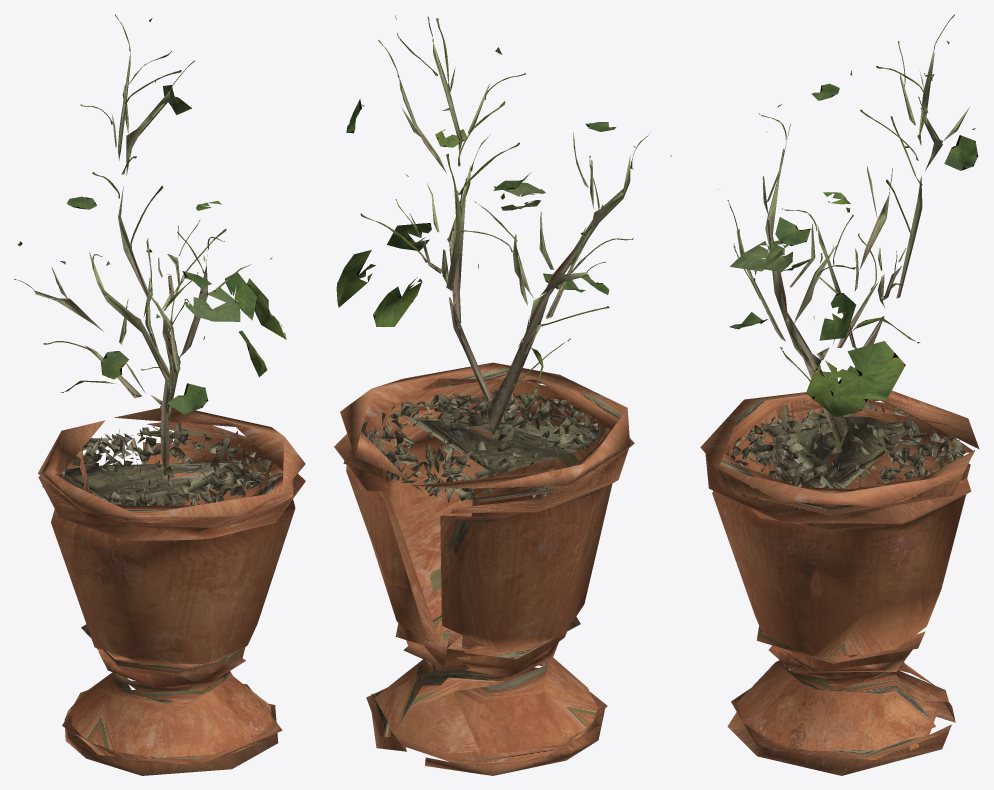
Rendered from plant.gltf.
The picture shows the model from 3 angles, left to right: view 1: azimuth 30°, elevation 25°; view 2: azimuth 150°, elevation 25°; view 3: azimuth 270°, elevation 25°; orthographic projection. The views are drawn at different scales.
Visible parts, largest first — view 1: potted_plant_01_pot, potted_plant_01_pebbles, potted_plant_01_leaves, potted_plant_01_stem; view 2: potted_plant_01_pot, potted_plant_01_pebbles, potted_plant_01_stem, potted_plant_01_leaves; view 3: potted_plant_01_pot, potted_plant_01_pebbles, potted_plant_01_leaves, potted_plant_01_stem.
Part boxes in pixels (x1=…): potted_plant_01_pot: x1=38, y1=407, x2=305, y2=775; potted_plant_01_pebbles: x1=58, y1=423, x2=279, y2=528; potted_plant_01_leaves: x1=14, y1=14, x2=286, y2=440; potted_plant_01_stem: x1=35, y1=51, x2=251, y2=469; potted_plant_01_pot: x1=334, y1=362, x2=634, y2=775; potted_plant_01_pebbles: x1=365, y1=382, x2=605, y2=503; potted_plant_01_stem: x1=399, y1=42, x2=630, y2=434; potted_plant_01_leaves: x1=336, y1=15, x2=671, y2=408; potted_plant_01_pot: x1=700, y1=390, x2=979, y2=775; potted_plant_01_pebbles: x1=726, y1=401, x2=965, y2=508; potted_plant_01_leaves: x1=727, y1=14, x2=977, y2=416; potted_plant_01_stem: x1=737, y1=49, x2=969, y2=447.
Bounding box in the file's own units: 0.5258 × 1.33 × 0.4745.
2 materials, 2 textured.
